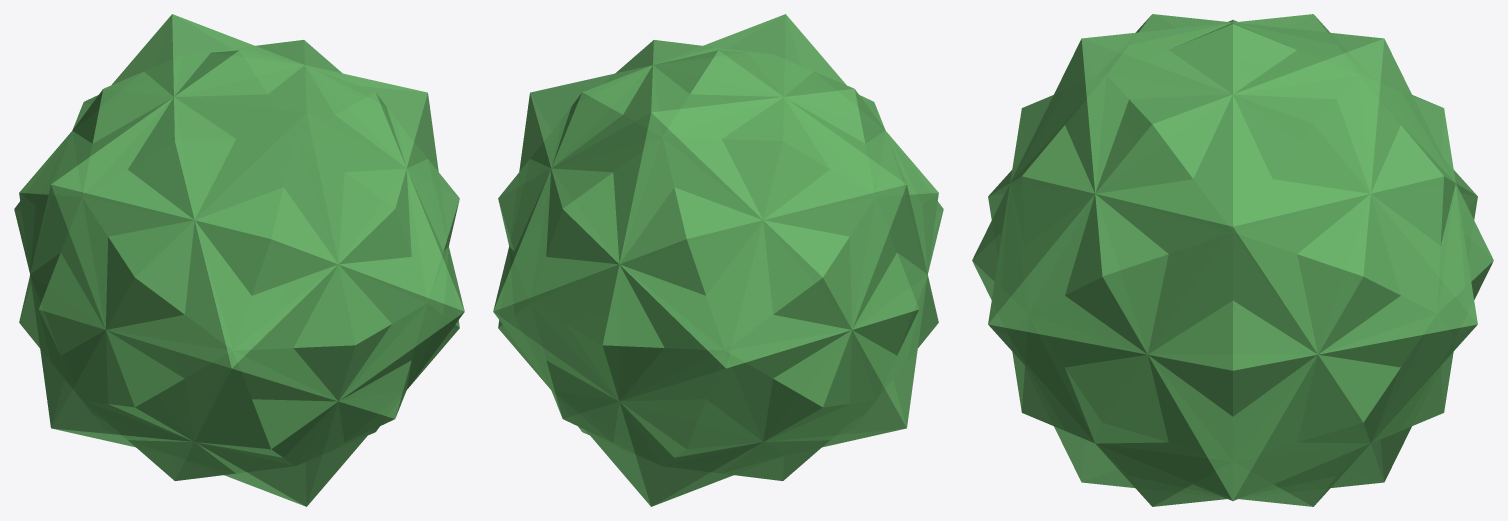
The model's file is MedialDeltoidalHexecontahedron.obj.
The picture shows the model from 3 angles, left to right: view 1: azimuth 30°, elevation 25°; view 2: azimuth 150°, elevation 25°; view 3: azimuth 270°, elevation 25°; orthographic projection. The views are drawn at different scales.
Bounding box in the file's own units: 2.68 × 2.68 × 2.68.
